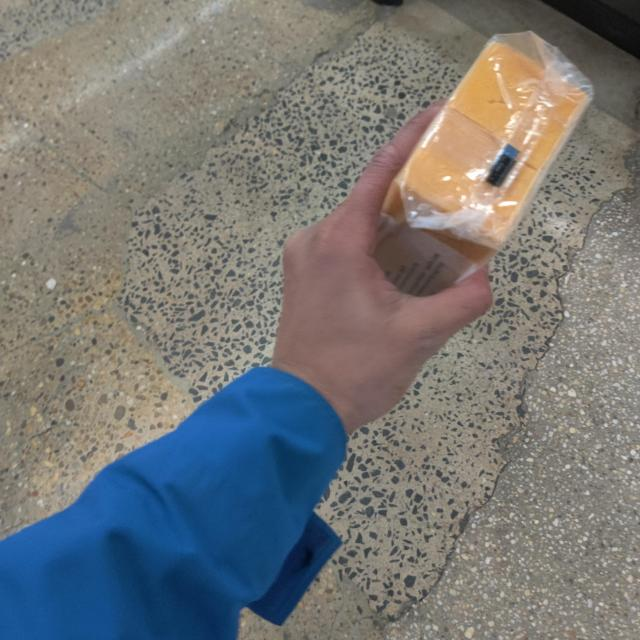Cheese: (370, 44, 590, 298)
